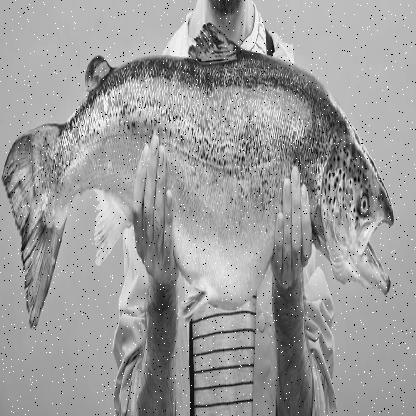fish: (4, 21, 394, 325)
